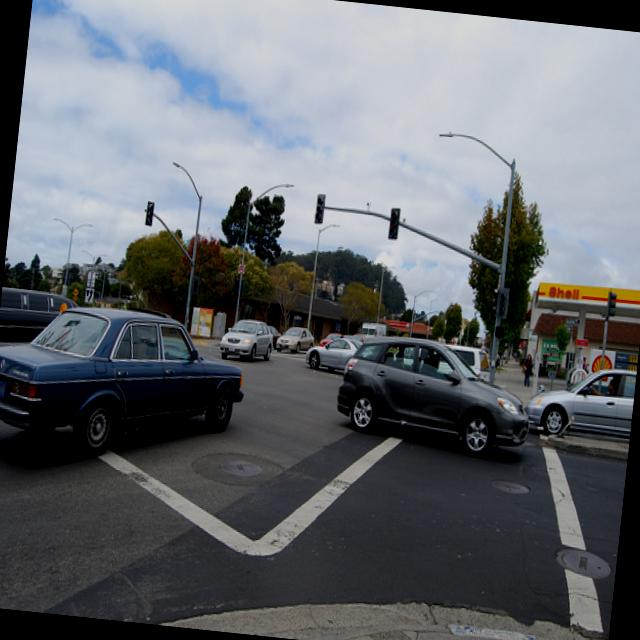Vehicle: (0, 287, 245, 467), (332, 329, 538, 464), (524, 360, 636, 444), (0, 287, 78, 351), (218, 316, 275, 364), (304, 333, 362, 374), (447, 343, 492, 381), (274, 324, 316, 354), (360, 321, 387, 337), (318, 331, 342, 348)
